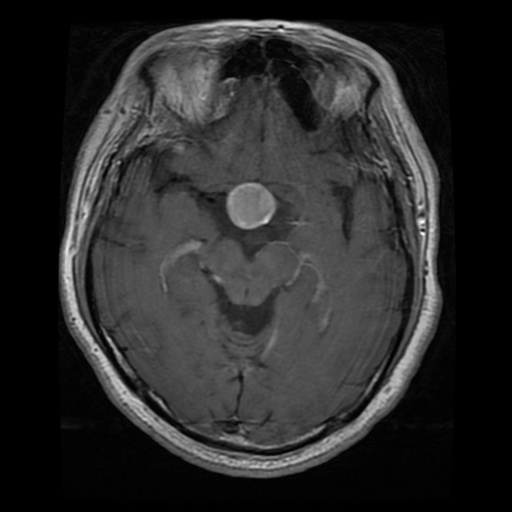pituitary: (226, 182, 277, 229)
